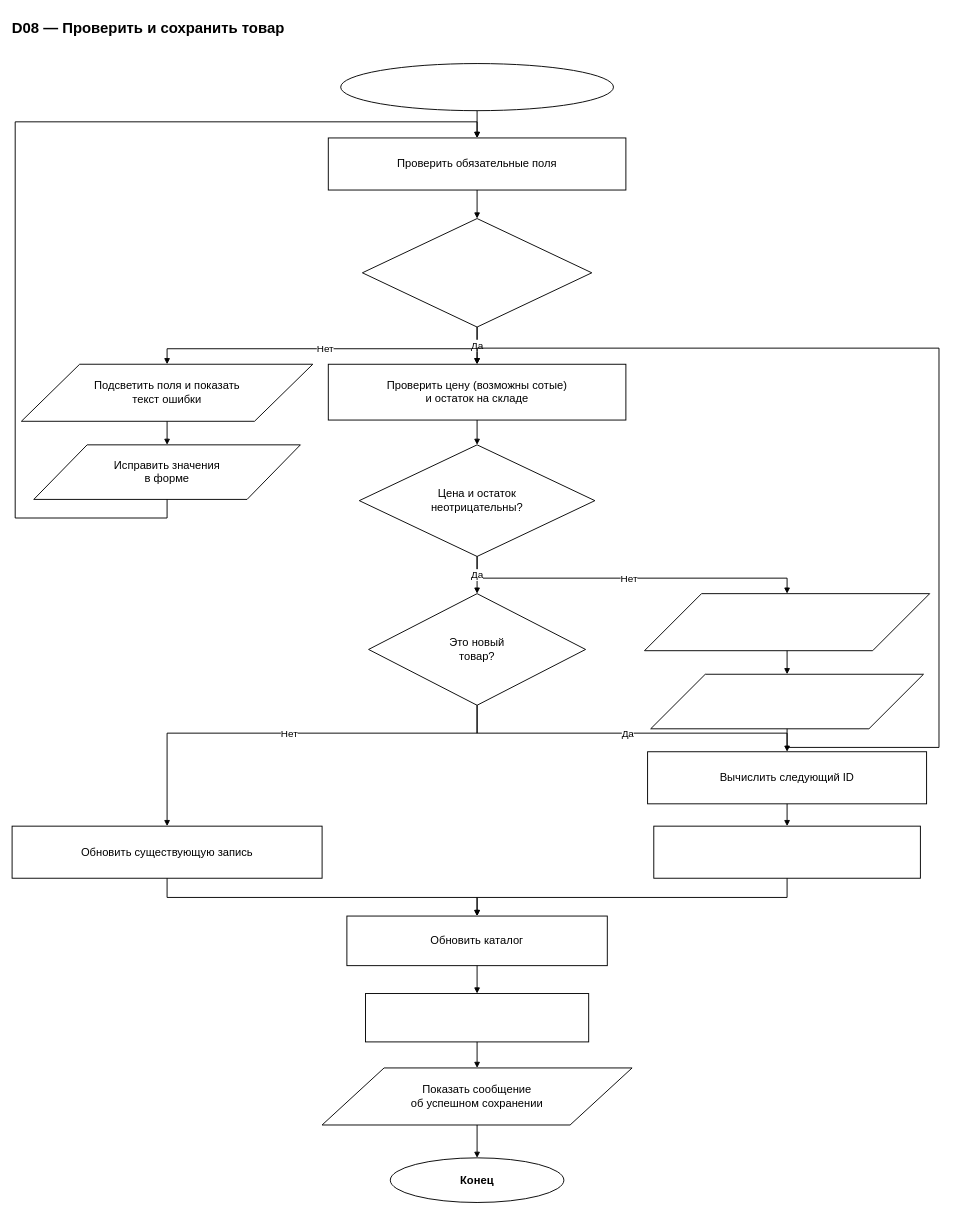
Some shapes in this 955 by 1213 pixel diagram are drawn without their labels. The shapes that lost their labels are listed below. From the top down, each one's centre as x and y in pixels, then its label:
At pixel 477 87: "Форма товара заполнена".
At pixel 477 272: "Все обязательные поля заполнены?".
At pixel 787 622: "Показать ошибку для цены или остатка".
At pixel 787 701: "Исправить цену или остаток".
At pixel 787 851: "Добавить товар в БД".
At pixel 477 1017: "Закрыть форму".
